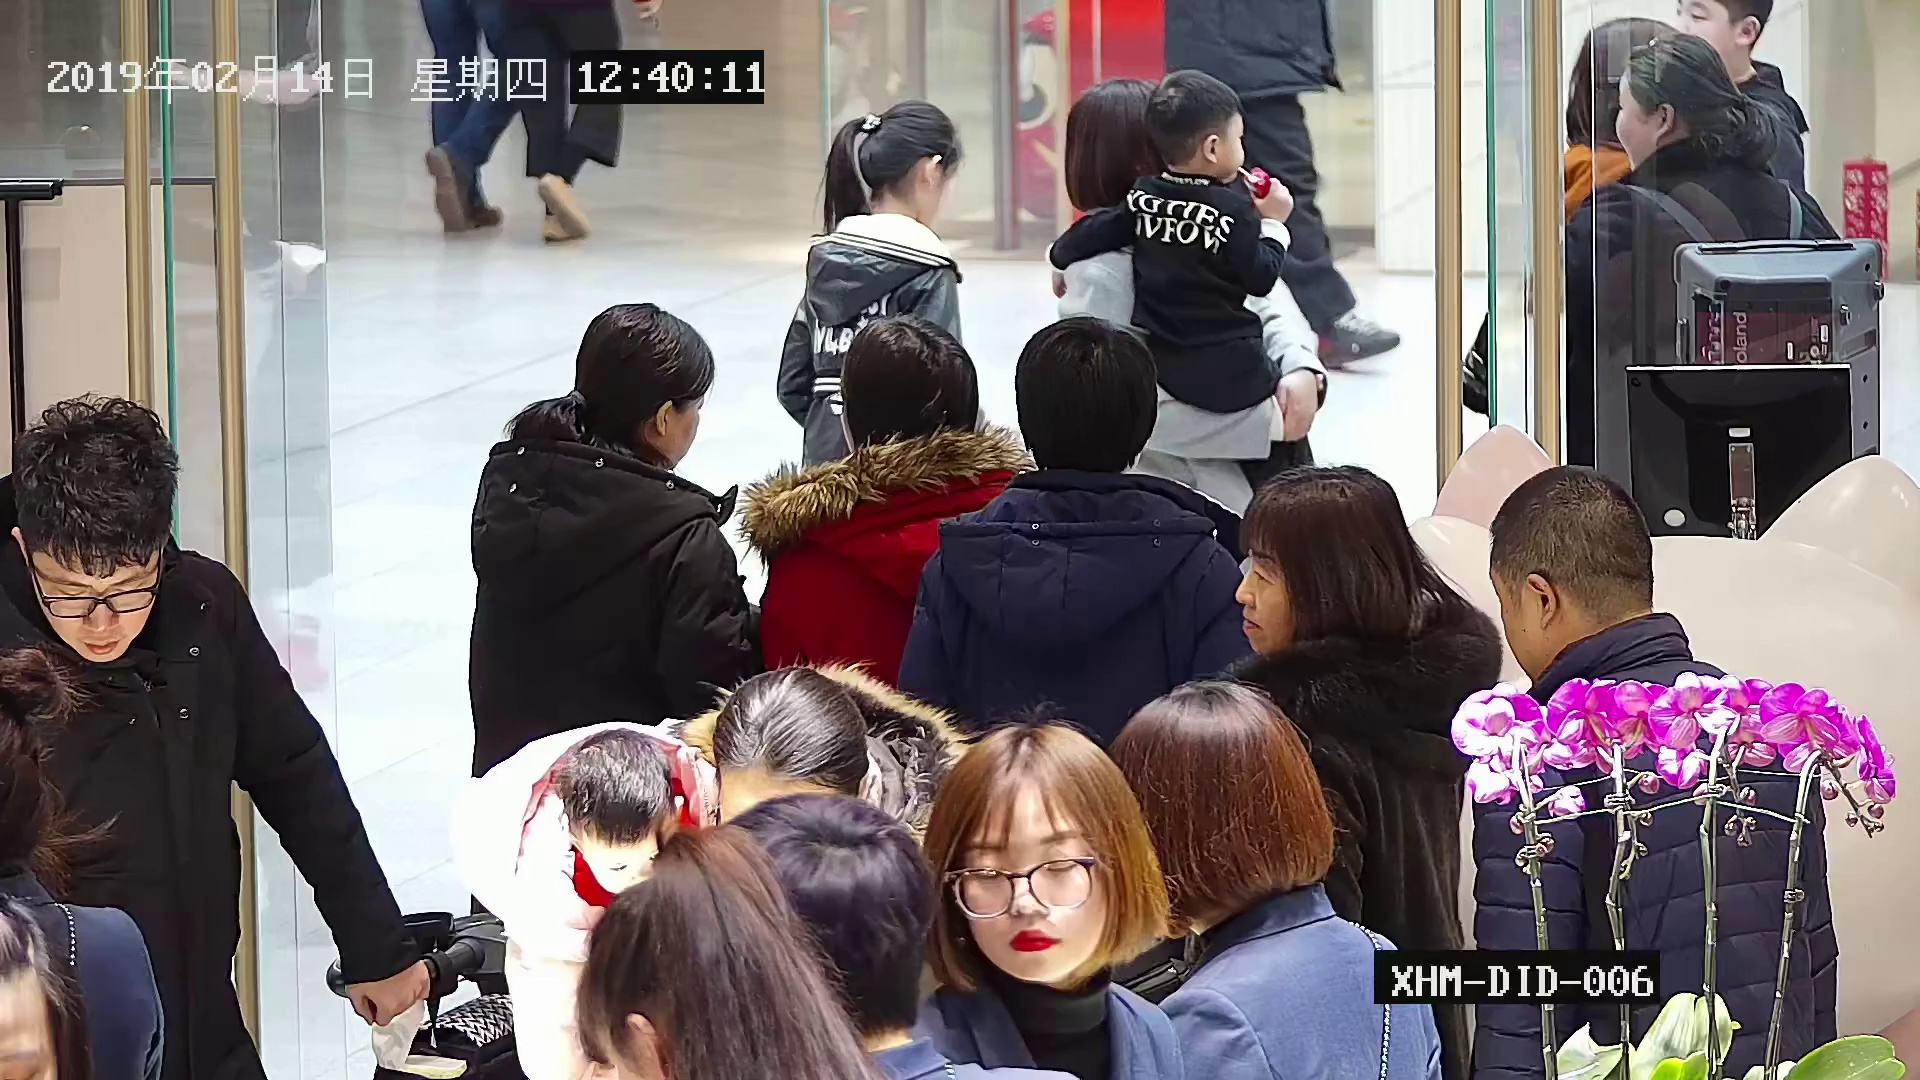head: (689, 790, 928, 1051), (925, 720, 1124, 983), (1107, 676, 1310, 933), (574, 864, 807, 1073), (7, 392, 176, 663), (1483, 460, 1654, 683), (709, 660, 870, 885), (1233, 460, 1410, 661), (573, 300, 712, 471), (1011, 314, 1156, 475), (835, 312, 976, 475), (552, 726, 675, 893), (1615, 28, 1734, 171), (1565, 12, 1690, 147), (1059, 76, 1184, 207), (855, 98, 962, 227), (1145, 68, 1246, 179), (1667, 0, 1774, 67)
